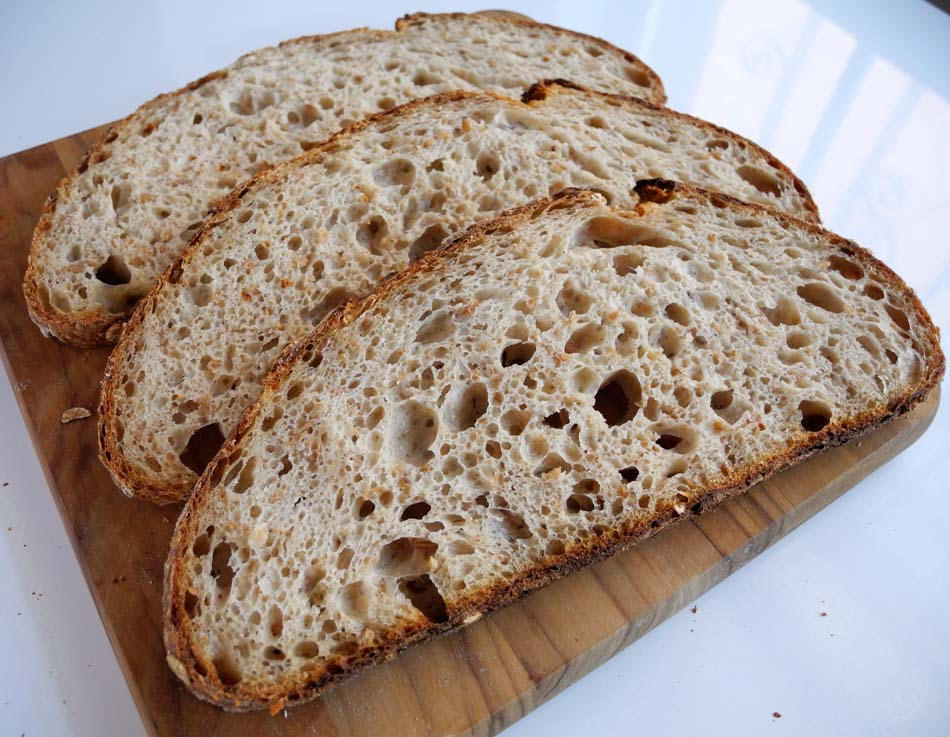slice of bread: (13, 18, 844, 517), (168, 186, 936, 715)
